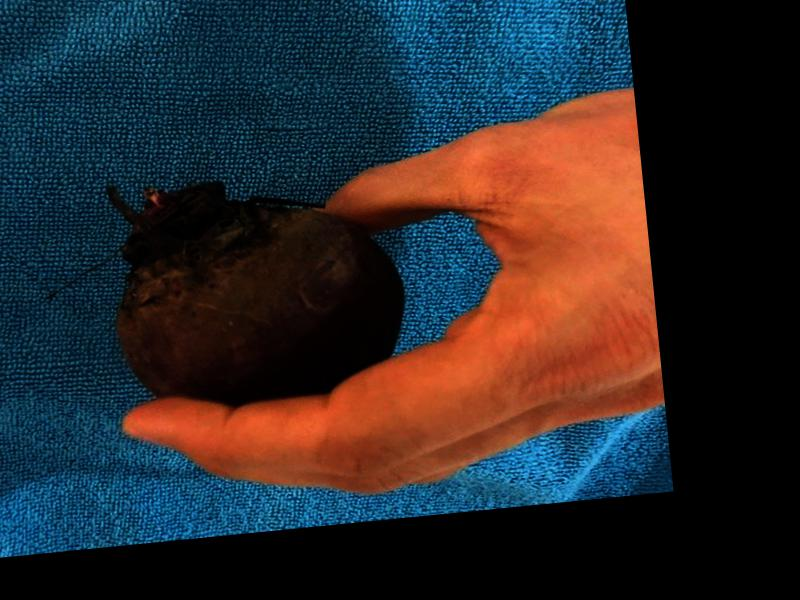Beet: (104, 160, 410, 413)
